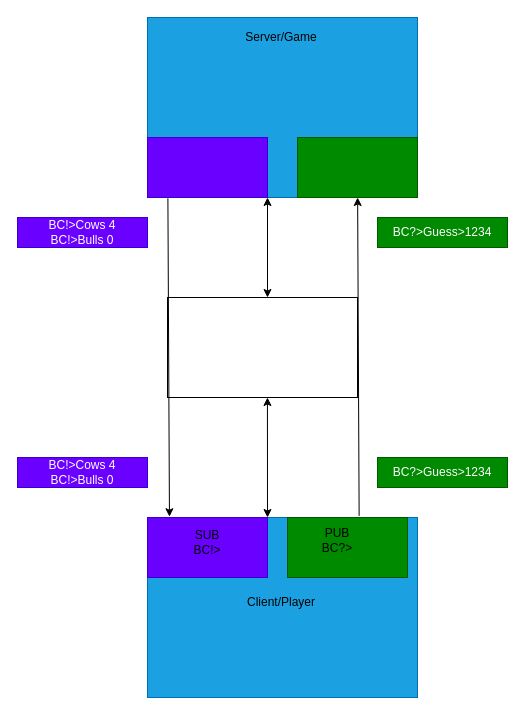
Image size: 525x715. Some labels were removed from this diagram. The shapes that lost their labels are listed below. From the top down, each one's centre as x and y in pixels, then its label:
At [207,167]: "PUB BC!>".
At [357,167]: "SUB BC?>".
At [262,347]: "Broker/Benternet".
